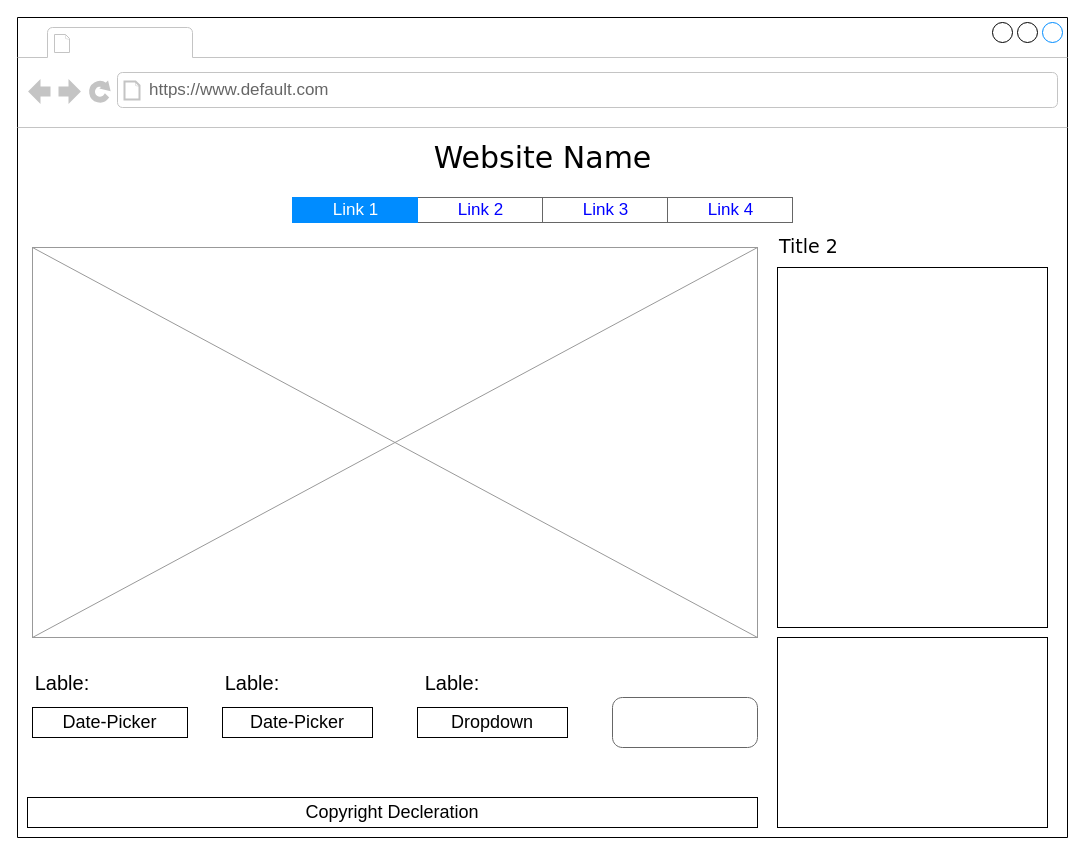
Image size: 1085x855. Some labels were removed from this diagram. Here are the shapes that lost their labels. From the top down, the centre of each, then its label:
At pixel 132 42: "Page 1".
At pixel 395 442: "Site Map".
At pixel 912 447: "Text description".
At pixel 685 722: "Button 1".
At pixel 912 732: "Calculation/ Cart-info".
